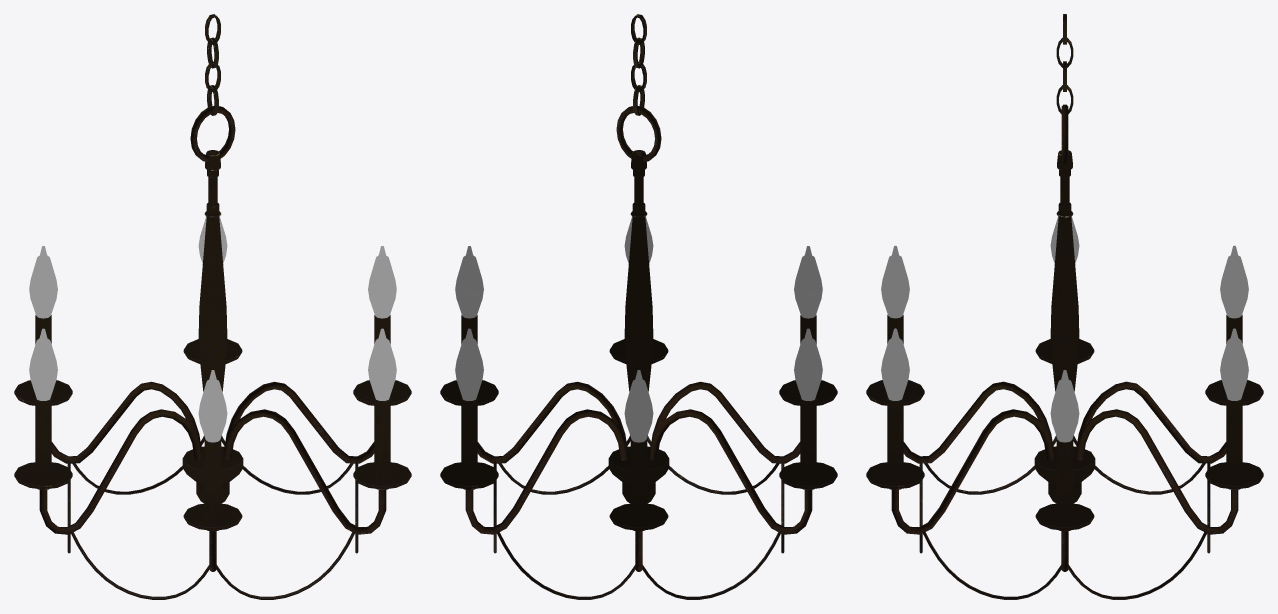
The model's file is Chandelier.obj.
The picture shows the model from 3 angles, left to right: view 1: azimuth 30°, elevation 25°; view 2: azimuth 150°, elevation 25°; view 3: azimuth 270°, elevation 25°; orthographic projection.
Visible parts, largest first — view 1: Chandelier02Body, ChandelierArmB006, ChandelierArmB005, ChandelierArmB007, ChandelierArmA005, ChandelierArmA007, ChandelierArmA004, ChandelierArmA01, ChandelierBulp004, ChandelierBulp006, ChandelierBulp005, ChandelierBulp001 (+7 smaller); view 2: Chandelier02Body, ChandelierArmB004, ChandelierArmB003, ChandelierArmB005, ChandelierArmA003, ChandelierArmA005, ChandelierArmA006, ChandelierArmA01, ChandelierBulp002, ChandelierBulp004, ChandelierBulp003, ChandelierBulp001 (+7 smaller); view 3: Chandelier02Body, ChandelierArmB01, ChandelierArmB003, ChandelierArmB007, ChandelierArmA003, ChandelierArmA007, ChandelierArmA004, ChandelierArmA006, ChandelierBulp003, ChandelierBulp005, ChandelierBulp002, ChandelierBulp006 (+6 smaller).
Boxes of the visible parts, box(x1,y1,x2,y2) form: Chandelier02Body: box(182, 150, 243, 503); ChandelierArmB006: box(183, 439, 242, 531); ChandelierArmB005: box(14, 397, 72, 490); ChandelierArmB007: box(353, 397, 411, 490); ChandelierArmA005: box(39, 409, 201, 534); ChandelierArmA007: box(224, 409, 386, 534); ChandelierArmA004: box(51, 381, 201, 463); ChandelierArmA01: box(224, 381, 374, 463); ChandelierBulp004: box(29, 328, 57, 400); ChandelierBulp006: box(368, 328, 396, 400); ChandelierBulp005: box(198, 370, 227, 442); ChandelierBulp001: box(368, 246, 396, 318); Chandelier02Body: box(608, 150, 669, 503); ChandelierArmB004: box(609, 439, 668, 531); ChandelierArmB003: box(440, 397, 498, 490); ChandelierArmB005: box(779, 397, 837, 490); ChandelierArmA003: box(465, 409, 627, 534); ChandelierArmA005: box(650, 409, 812, 534); ChandelierArmA006: box(650, 381, 800, 463); ChandelierArmA01: box(477, 381, 627, 463); ChandelierBulp002: box(455, 328, 483, 400); ChandelierBulp004: box(794, 328, 822, 400); ChandelierBulp003: box(624, 370, 653, 442); ChandelierBulp001: box(455, 246, 483, 318); Chandelier02Body: box(1034, 150, 1095, 503); ChandelierArmB01: box(1035, 439, 1094, 531); ChandelierArmB003: box(1205, 397, 1263, 490); ChandelierArmB007: box(866, 397, 924, 490); ChandelierArmA003: box(1076, 409, 1238, 534); ChandelierArmA007: box(891, 409, 1053, 534); ChandelierArmA004: box(1076, 381, 1226, 463); ChandelierArmA006: box(903, 381, 1053, 463); ChandelierBulp003: box(1220, 245, 1248, 318); ChandelierBulp005: box(881, 245, 909, 318); ChandelierBulp002: box(1220, 328, 1248, 400); ChandelierBulp006: box(881, 328, 909, 400).
Size of the model in its own units: 41.81 by 54.35 by 36.93.
2 materials, 1 textured.
